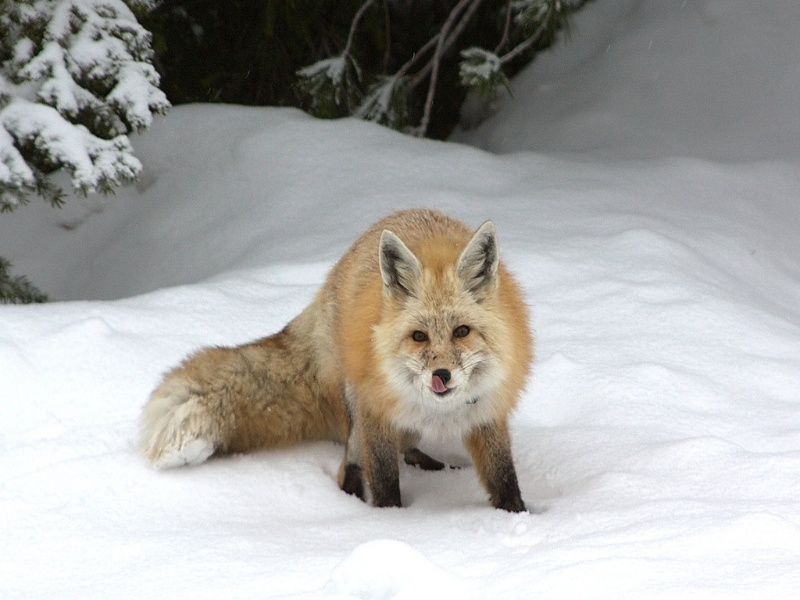fox: (143, 196, 555, 526)
